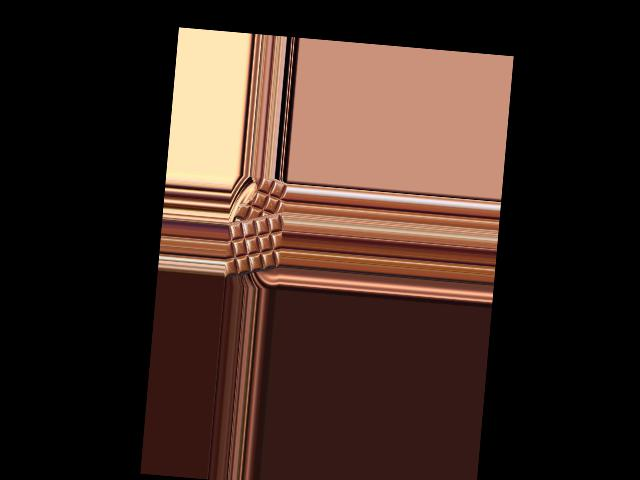chocolate: (224, 206, 285, 283)
